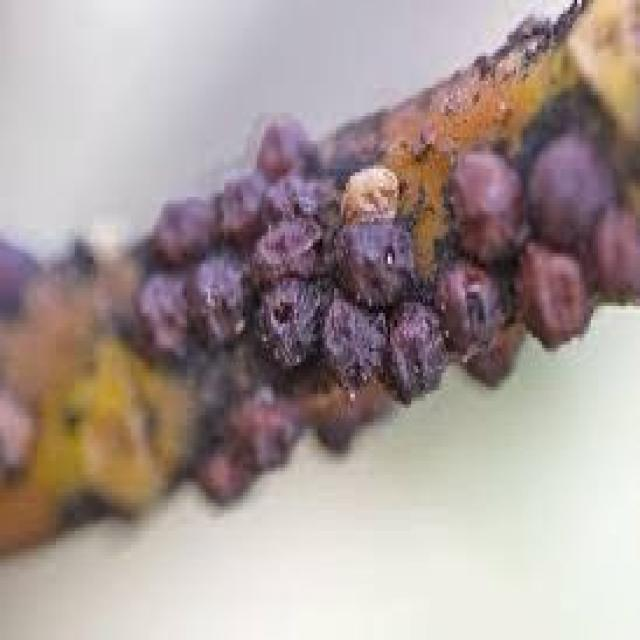BlackScale: (136, 120, 447, 408), (434, 127, 638, 390)
